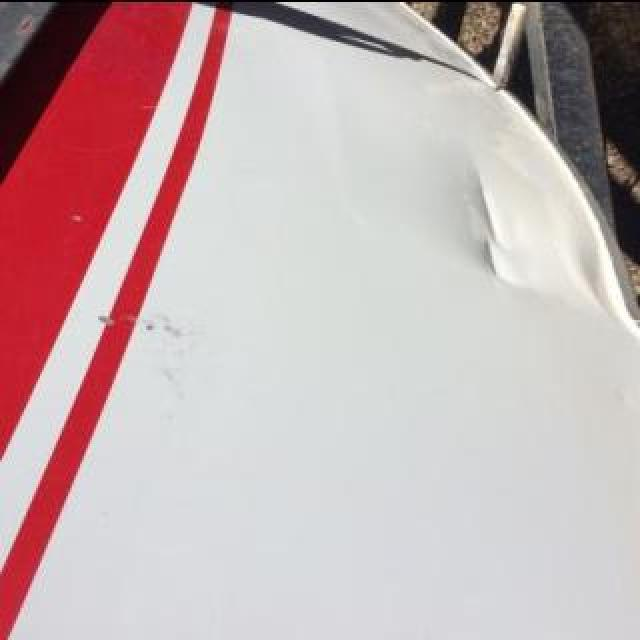dent: (463, 164, 515, 290), (572, 247, 640, 339)
